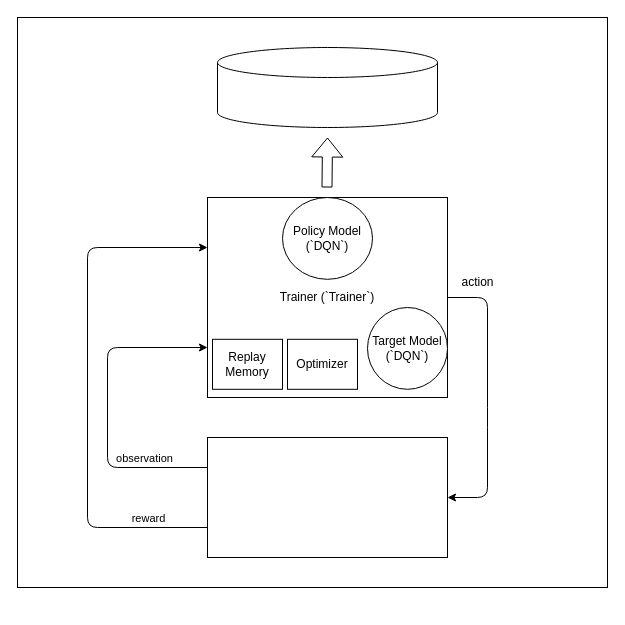
Image size: 625x625. Some labels were removed from this diagram. The box of each missing label's shape, as (x1, y1, x2, y2) in pixels:
Environment (`Env`): (206, 436, 448, 558)
weights.pth: (216, 46, 438, 128)
